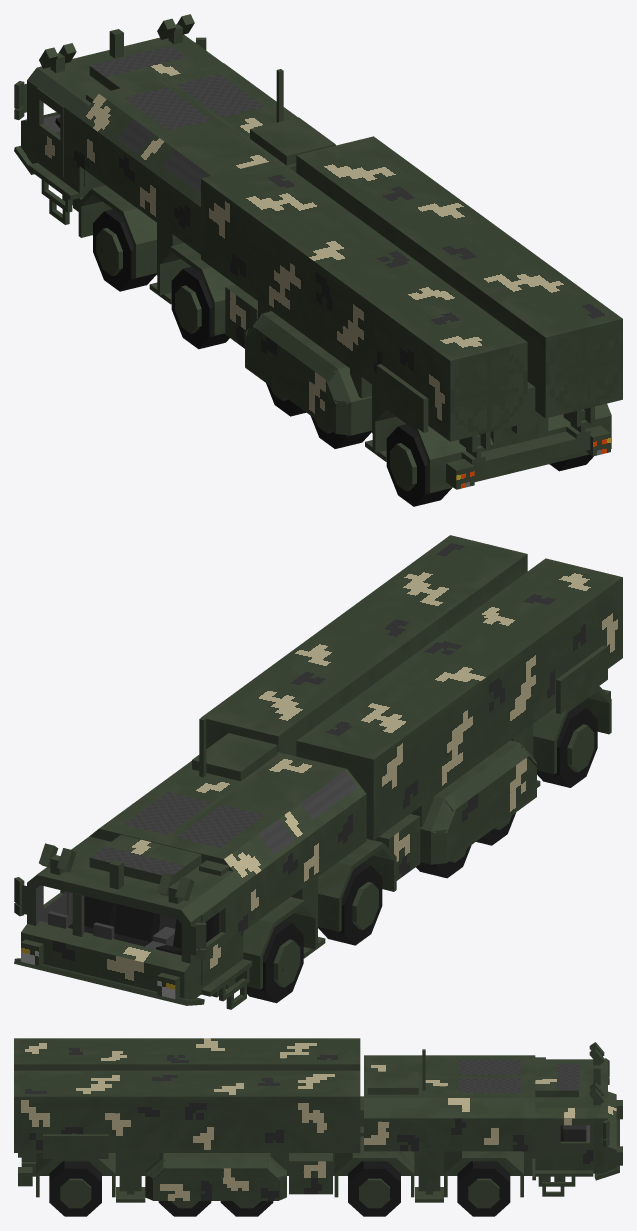
The model's file is sapsan.gltf.
3 views of the same model, one above another, from view 1: azimuth 30°, elevation 25°; view 2: azimuth 150°, elevation 25°; view 3: azimuth 270°, elevation 25° (orthographic). The views are drawn at different scales.
Visible parts, largest first — view 1: cube (×35); view 2: cube (×38); view 3: cube (×58).
Part boxes in pixels (x1,y1,x2,y2): cube (×35): (27,34,622,506); cube (×38): (21,535,622,1005); cube (×58): (14,1038,616,1216).
Size of the model in its own units: 2.79 by 2.85 by 10.44.
1 material, 1 textured.
